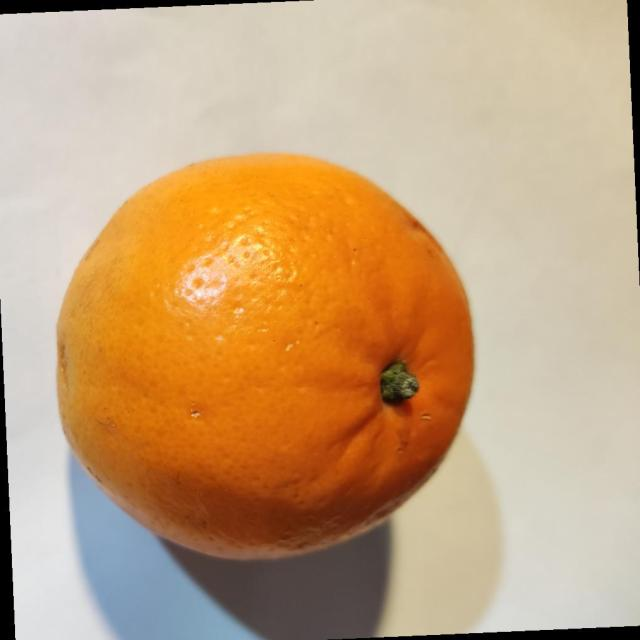fresh orange: (55, 150, 476, 562)
